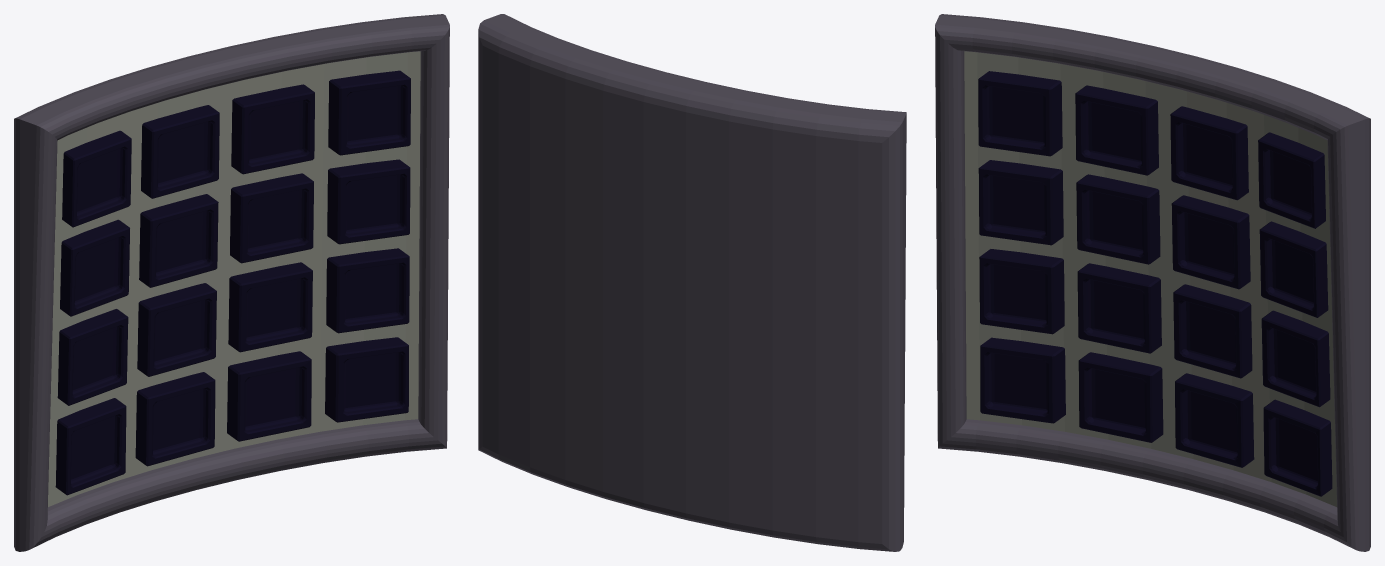
The model's file is UIelements1.fbx.
3 renders of one model, left to right at view 1: azimuth 30°, elevation 25°; view 2: azimuth 150°, elevation 25°; view 3: azimuth 330°, elevation 25°, orthographic.
Visible parts, largest first — view 1: Cube; view 2: Cube; view 3: Cube.
Boxes of the visible parts, <box> form: Cube: <box>14,14,449,551</box>; Cube: <box>478,14,906,551</box>; Cube: <box>935,14,1370,551</box>.
Bounding box in the file's own units: 147 × 143 × 25.6.
